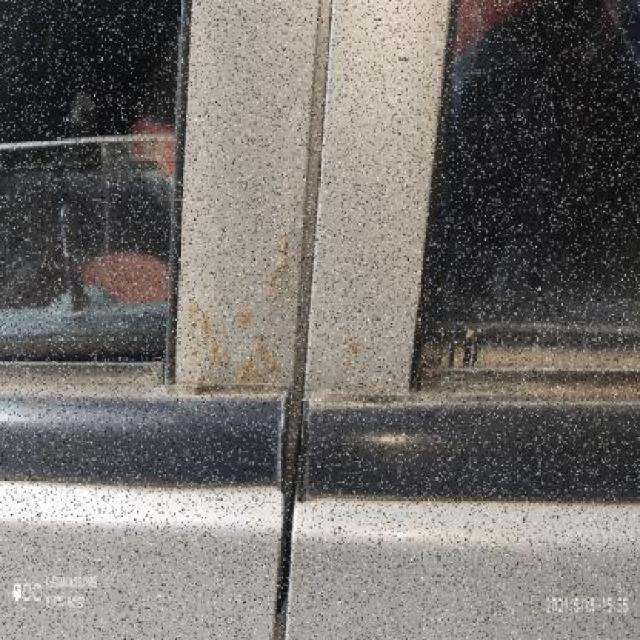pillar-dent: (305, 3, 458, 404), (177, 0, 303, 401)
